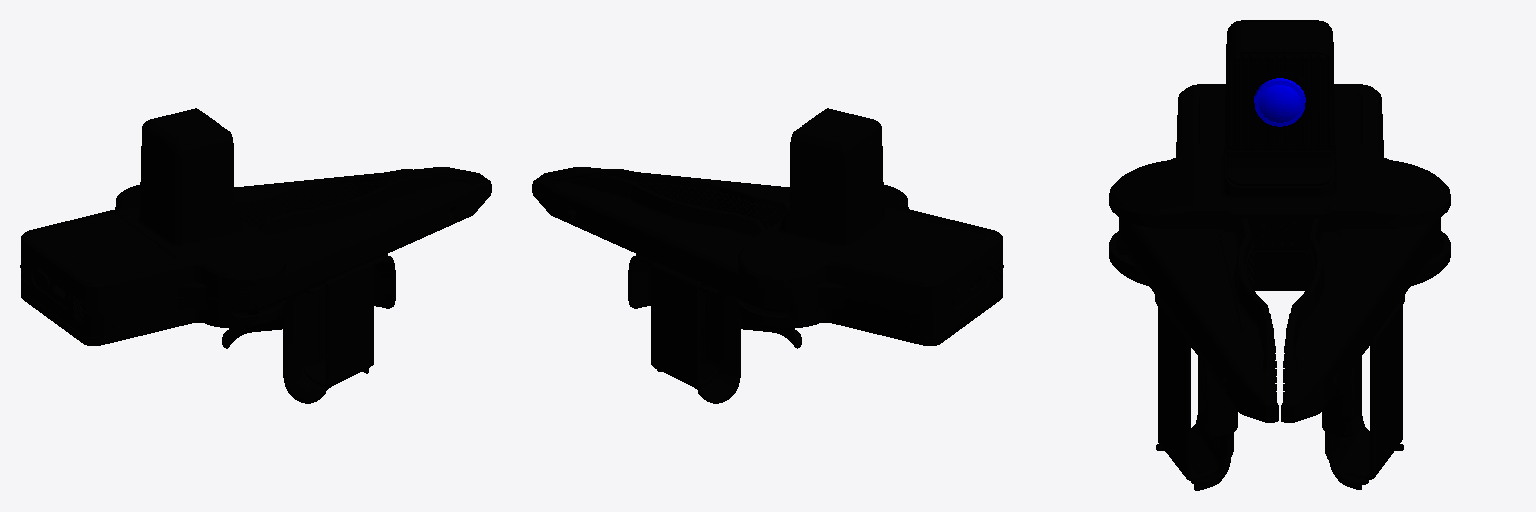
The robot description file, URDF, robot "genrobot-das-finger-collector":
<?xml version="1.0" encoding="utf-8"?>
<!-- This URDF was automatically created by SolidWorks to URDF Exporter! Originally created by Stephen Brawner (brawner@gmail.com) 
     Commit Version: 1.6.0-4-g7f85cfe  Build Version: 1.6.7995.38578
     For more information, please see http://wiki.ros.org/sw_urdf_exporter -->
<robot name="genrobot-das-finger-collector">

  <material name="black">
    <color rgba="0.02 0.02 0.02 1"/>
  </material>

  <material name="blue">
    <color rgba="0 0 1 1"/>
  </material>

  <link name="base_link">
    <inertial>
      <origin
        xyz="-0.00904105599789235 -5.7595153250153E-05 -0.0321779248589074"
        rpy="0 0 0" />
      <mass
        value="0.0380138865829761" />
      <inertia
        ixx="2.30654411958402E-05"
        ixy="-4.02747065306938E-08"
        ixz="-2.04246405591706E-06"
        iyy="2.46016977527937E-05"
        iyz="1.67977276853063E-09"
        izz="3.72051768365837E-05" />
    </inertial>
    <visual>
      <origin
        xyz="0 0 0"
        rpy="0 0 0" />
      <geometry>
        <mesh
          filename="meshes/base_link.STL" />
      </geometry>
      <material name="black"/>
    </visual>
    <collision>
      <origin
        xyz="0 0 0"
        rpy="0 0 0" />
      <geometry>
        <mesh
          filename="meshes/base_link.STL" />
      </geometry>
    </collision>
  </link>
  <link
    name="cam_Link">
    <inertial>
      <origin
        xyz="-6.61467413533847E-05 3.99128194383813E-09 0.00593803110585829"
        rpy="0 0 0" />
      <mass
        value="0.00245178479842839" />
      <inertia
        ixx="6.4644230631478E-08"
        ixy="-5.56998411501945E-10"
        ixz="-6.79182094131767E-11"
        iyy="8.57838099758448E-08"
        iyz="-1.54722740251395E-11"
        izz="9.78255260493566E-08" />
    </inertial>
    <visual>
      <origin
        xyz="0 0 0"
        rpy="0 0 0" />
      <geometry>
        <mesh
          filename="meshes/cam_Link.STL" />
      </geometry>
      <material name="blue"/>
    </visual>
    <collision>
      <origin
        xyz="0 0 0"
        rpy="0 0 0" />
      <geometry>
        <mesh
          filename="meshes/cam_Link.STL" />
      </geometry>
    </collision>
  </link>
  <joint
    name="cam"
    type="fixed">
    <origin
      xyz="0 0 0"
      rpy="-1.5707963267949 0 -1.5707963267949" />
    <parent
      link="base_link" />
    <child
      link="cam_Link" />
    <axis
      xyz="0 0 0" />
  </joint>
  <link
    name="imu_Link">
    <inertial>
      <origin
        xyz="-1.49999999501252E-06 -1.50000000548323E-06 0.00162500620000021"
        rpy="0 0 0" />
      <mass
        value="0.00095808895" />
      <inertia
        ixx="1.97046481672192E-08"
        ixy="-3.77282860007715E-17"
        ixz="-1.25929530914897E-24"
        iyy="3.02145246653629E-08"
        iyz="-4.90147881176058E-24"
        izz="4.82325370768529E-08" />
    </inertial>
    <visual>
      <origin
        xyz="0 0 0"
        rpy="0 0 0" />
      <geometry>
        <mesh
          filename="meshes/imu_Link.STL" />
      </geometry>
      <material name="black"/>
    </visual>
    <collision>
      <origin
        xyz="0 0 0"
        rpy="0 0 0" />
      <geometry>
        <mesh
          filename="meshes/imu_Link.STL" />
      </geometry>
    </collision>
  </link>
  <joint
    name="imu"
    type="fixed">
    <origin
      xyz="-0.000101739704802331 0.0371915693484425 -0.039694608918047"
      rpy="1.5707963267949 0 3.14159265358979" />
    <parent
      link="cam_Link" />
    <child
      link="imu_Link" />
    <axis
      xyz="0 0 0" />
  </joint>
  <link
    name="left_Link">
    <inertial>
      <origin
        xyz="0.0397382420235815 0.0210947681903172 -0.0147931419162822"
        rpy="0 0 0" />
      <mass
        value="0.0565784020301612" />
      <inertia
        ixx="1.43818511226139E-05"
        ixy="-1.31092601793317E-05"
        ixz="-5.79876455650887E-07"
        iyy="2.76915621616396E-05"
        iyz="-2.84241807979075E-07"
        izz="3.29589321889009E-05" />
    </inertial>
    <visual>
      <origin
        xyz="0 0 0"
        rpy="0 0 0" />
      <geometry>
        <mesh
          filename="meshes/left_Link.STL" />
      </geometry>
      <material name="black"/>

    </visual>
    <collision>
      <origin
        xyz="0 0 0"
        rpy="0 0 0" />
      <geometry>
        <mesh
          filename="meshes/left_Link.STL" />
      </geometry>
    </collision>
  </link>
  <joint
    name="left"
    type="revolute">
    <origin
      xyz="0.0063439 0.029335 -0.033799"
      rpy="0 0 -0.6977" />
    <parent
      link="base_link" />
    <child
      link="left_Link" />
    <axis
      xyz="0 0 1" />
    <limit
      lower="0"
      upper="1.487"
      effort="1"
      velocity="1" />
  </joint>
  <link
    name="right_Link">
    <inertial>
      <origin
        xyz="0.0409933578639715 -0.0210777664311135 -0.0129908846170191"
        rpy="0 0 0" />
      <mass
        value="0.0397728999992067" />
      <inertia
        ixx="8.9257074651787E-06"
        ixy="8.260321401281E-06"
        ixz="-2.87097873288168E-07"
        iyy="1.69431549012047E-05"
        iyz="1.35415226597462E-07"
        izz="2.08805036942517E-05" />
    </inertial>
    <visual>
      <origin
        xyz="0 0 0"
        rpy="0 0 0" />
      <geometry>
        <mesh
          filename="meshes/right_Link.STL" />
      </geometry>
      <material name="black"/>
    </visual>
    <collision>
      <origin
        xyz="0 0 0"
        rpy="0 0 0" />
      <geometry>
        <mesh
          filename="meshes/right_Link.STL" />
      </geometry>
    </collision>
  </link>
  <joint
    name="right"
    type="revolute">
    <origin
      xyz="0.0063439 -0.029335 -0.033779"
      rpy="0 0 0.6977" />
    <parent
      link="base_link" />
    <child
      link="right_Link" />
    <axis
      xyz="0 0 -1" />
    <limit
      lower="0"
      upper="1.487"
      effort="1"
      velocity="1" />
    <mimic
      joint="left"
      multiplier="1"
      offset="0" />
  </joint>
</robot>

--- Facts derived from the render (not from the file) ---
3 views of the same robot in one strip: view 1: azimuth 30°, elevation 25°; view 2: azimuth 150°, elevation 25°; view 3: azimuth 270°, elevation 25° (orthographic).
Robot: genrobot-das-finger-collector — 5 links, 4 joints (2 revolute, 2 fixed); root link base_link; default pose: every joint at zero.
Visible links, largest first — view 1: base_link, right_Link, left_Link; view 2: base_link, left_Link, right_Link; view 3: base_link, left_Link, right_Link, cam_Link.
Link boxes in pixels (x1,y1,x2,y2): base_link: (20,108,285,345); right_Link: (232,175,491,403); left_Link: (222,167,484,348); base_link: (738,108,1003,345); left_Link: (532,175,791,403); right_Link: (539,167,801,348); base_link: (1109,20,1450,290); left_Link: (1281,218,1440,489); right_Link: (1119,218,1278,490); cam_Link: (1254,78,1305,126).
Size in the robot's own frame: 0.1878 by 0.0939 by 0.11 metres.
Meshes: 5 distinct files referenced, 5 mesh visuals loaded (5 binary STL).
